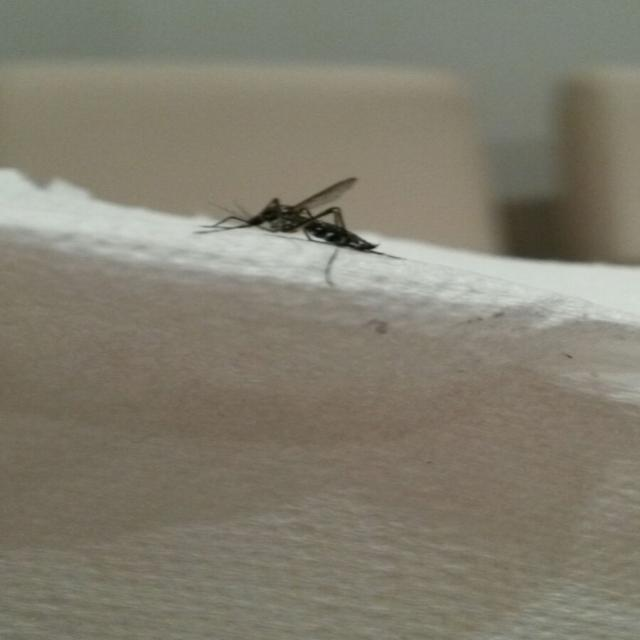albopictus: (191, 170, 417, 293)
